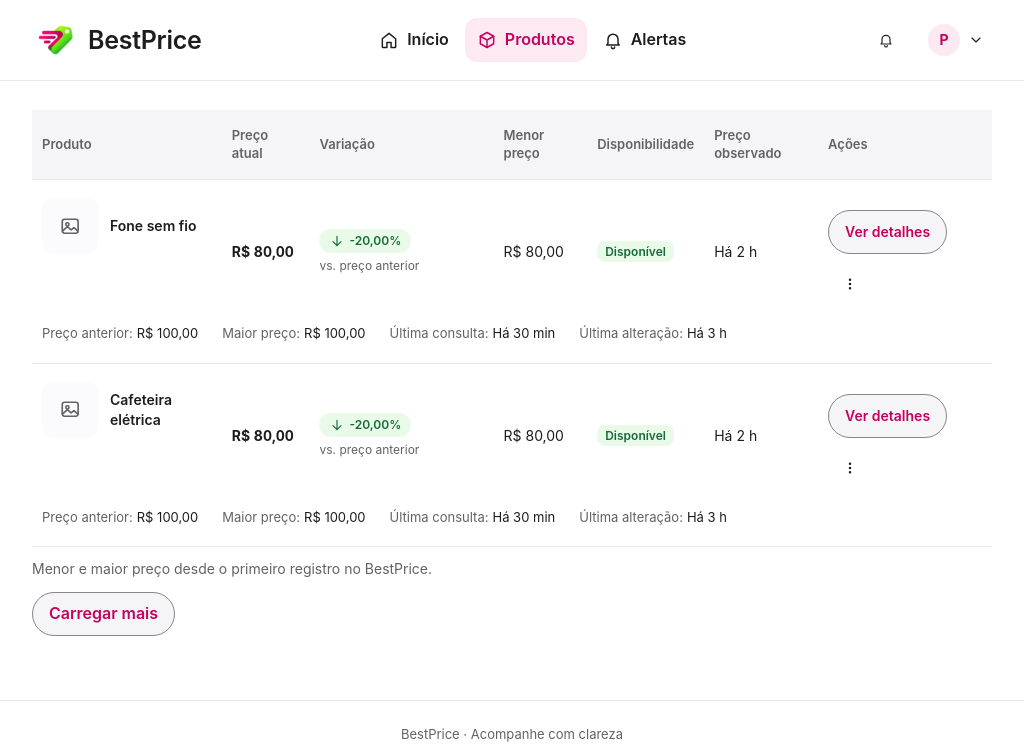
Parar de monitorar pela linha › remove só o produto, preserva a página 2, anuncia e foca o título
The width and height of the screenshot is (1024, 745).
(page scrolled)
Expected: the navigation bar named "Principal" is shown, [367,18,698,62]
Click the button named "Carregar mais produtos": coordinates (104, 614) [32,592,175,636]
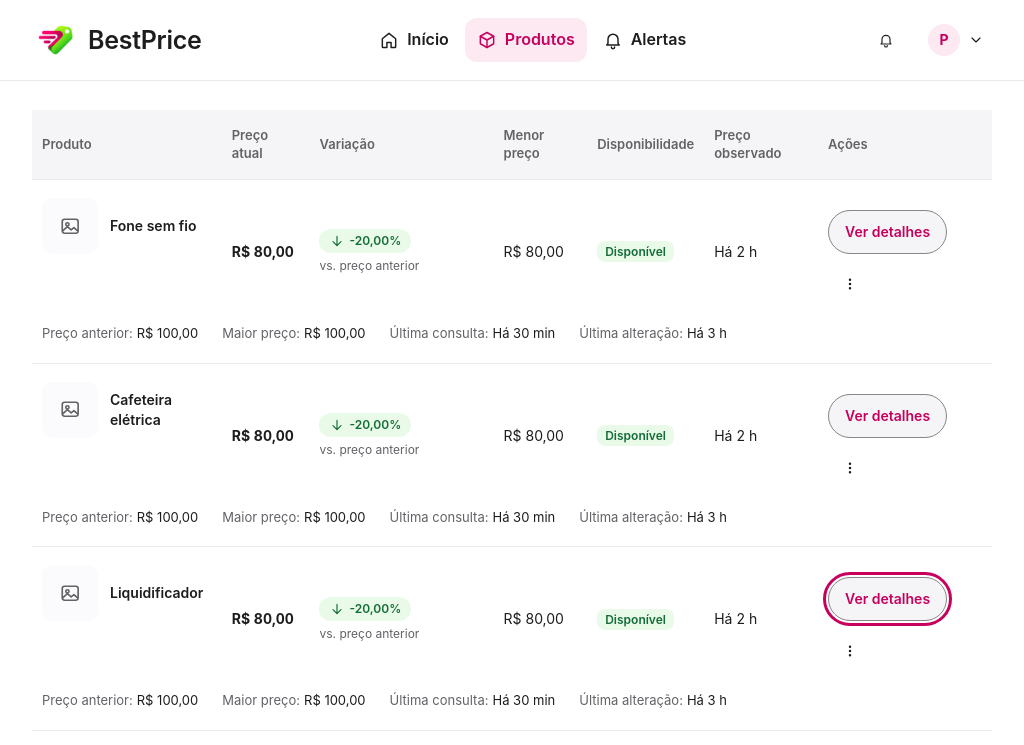
Expected: the table "Liquidificador" is shown, [32,547,992,731]
Click the 2nd button named "Ações de Fone sem fio": coordinates (850, 284) [828,262,872,306]
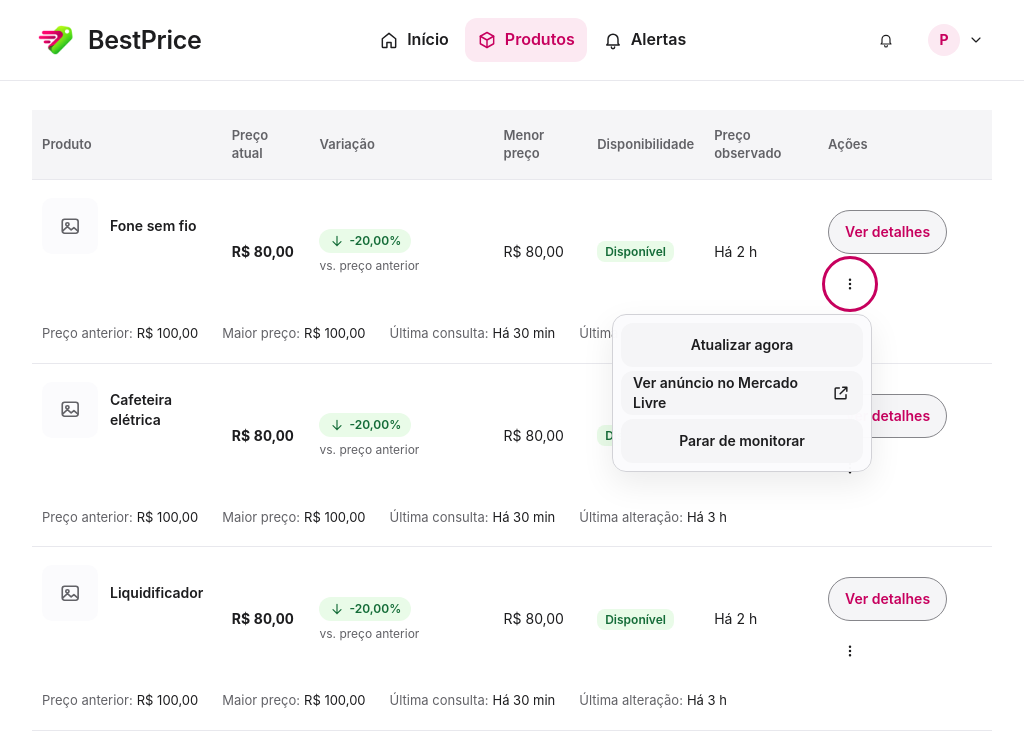
Click the button "Parar de monitorar": coordinates (742, 441) [621,419,863,463]
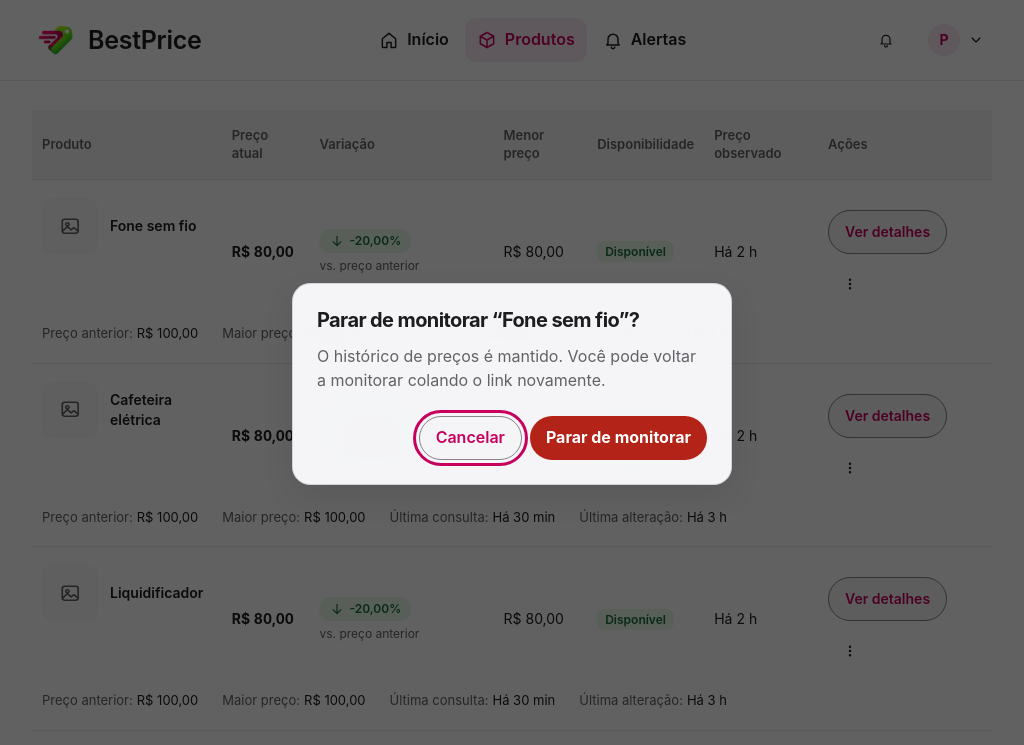
Click the button "Parar de monitorar": coordinates (618, 438) [530,416,707,460]
(page scrolled)
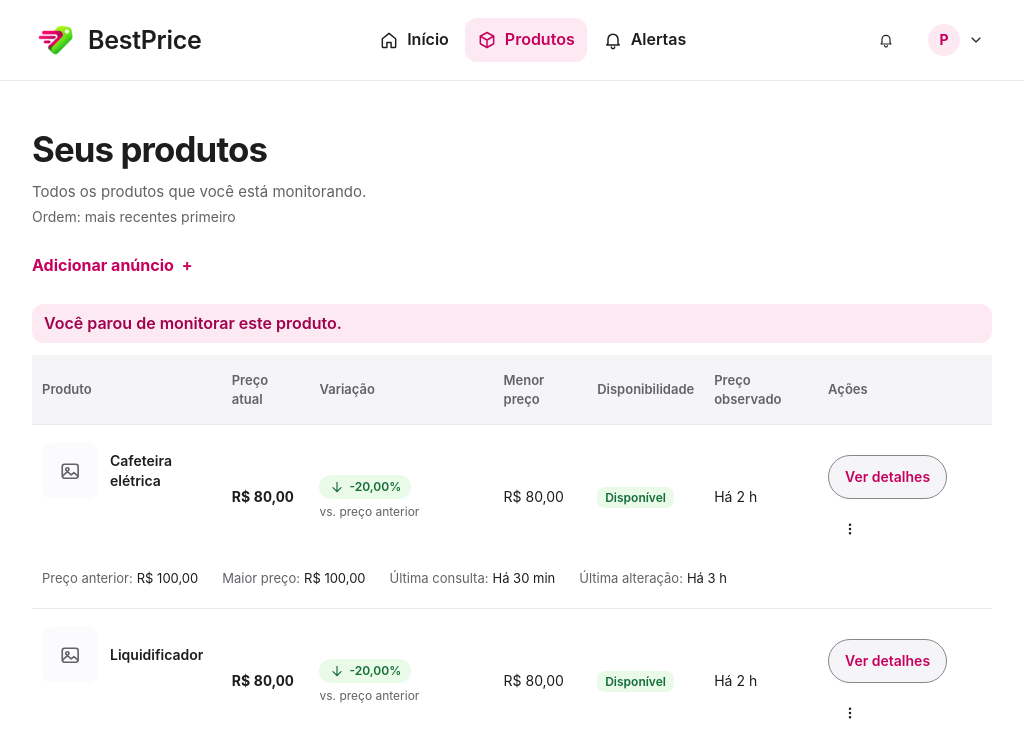
Expected: the text "Fone sem fio" is gone
Expected: the dialog is gone
Expected: the message with test id "products-status" reads "Você parou de monitorar este produto.", [44,313,342,333]
